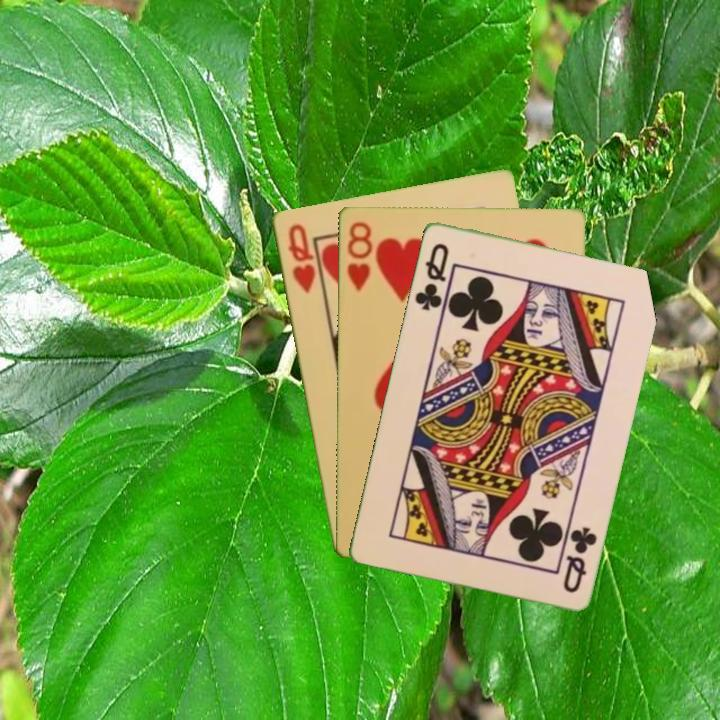8h: (343, 218, 375, 294)
Qc: (559, 522, 600, 597), (411, 239, 452, 313)
Qh: (283, 220, 318, 295)
